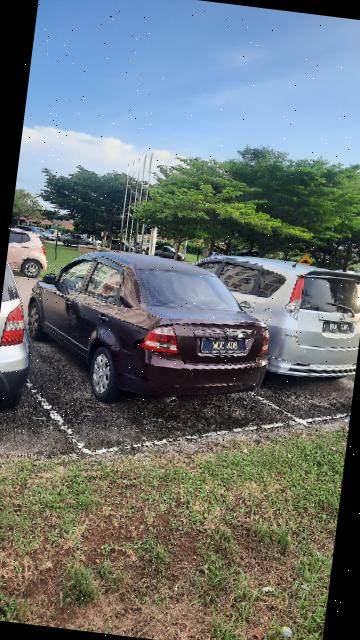License_Plate: (198, 336, 250, 358), (321, 316, 358, 337)
car: (18, 236, 277, 425), (176, 251, 360, 384), (1, 248, 59, 419)
